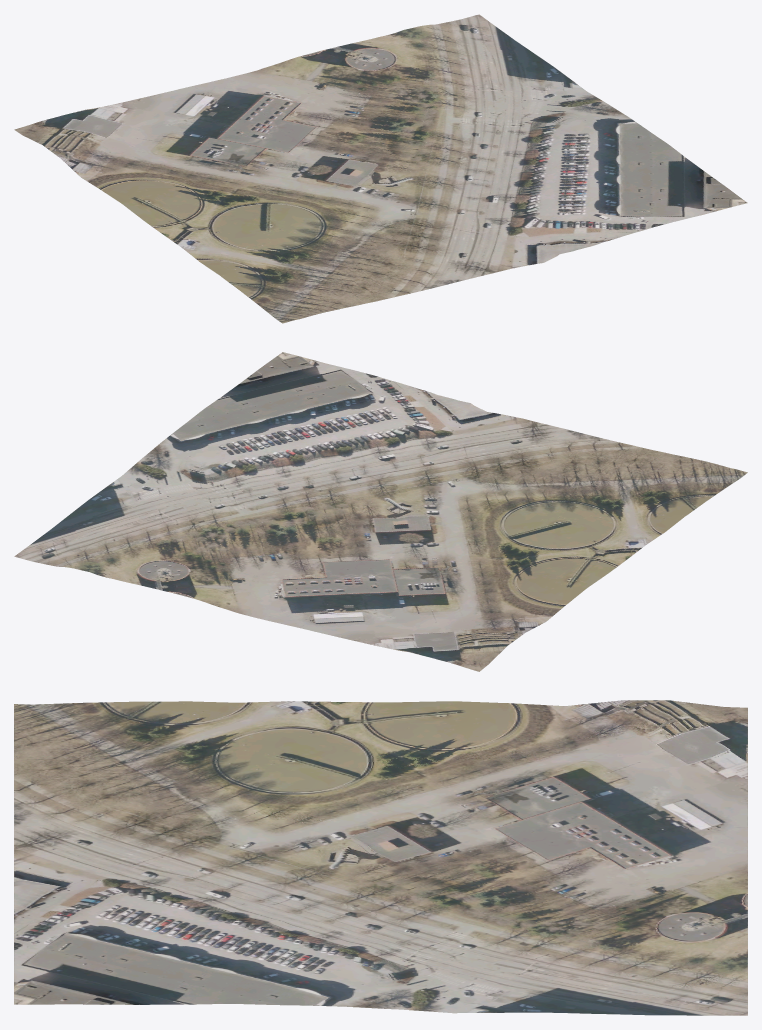
File: CM_Terrain_24487592_6819794.fbx
The picture shows the model from 3 angles, top to bottom: view 1: azimuth 30°, elevation 25°; view 2: azimuth 150°, elevation 25°; view 3: azimuth 270°, elevation 25°; orthographic projection. The views are drawn at different scales.
Parts seen in each view (by area): view 1: CM_Terrain_24487592_6819794_LOD0; view 2: CM_Terrain_24487592_6819794_LOD0; view 3: CM_Terrain_24487592_6819794_LOD0.
Part boxes in pixels (x1=…): CM_Terrain_24487592_6819794_LOD0: x1=14, y1=14, x2=747, y2=323; CM_Terrain_24487592_6819794_LOD0: x1=14, y1=352, x2=747, y2=671; CM_Terrain_24487592_6819794_LOD0: x1=14, y1=700, x2=747, y2=1015.
Size of what is drawn, in the model's own units: 205 by 4.78 by 205.
